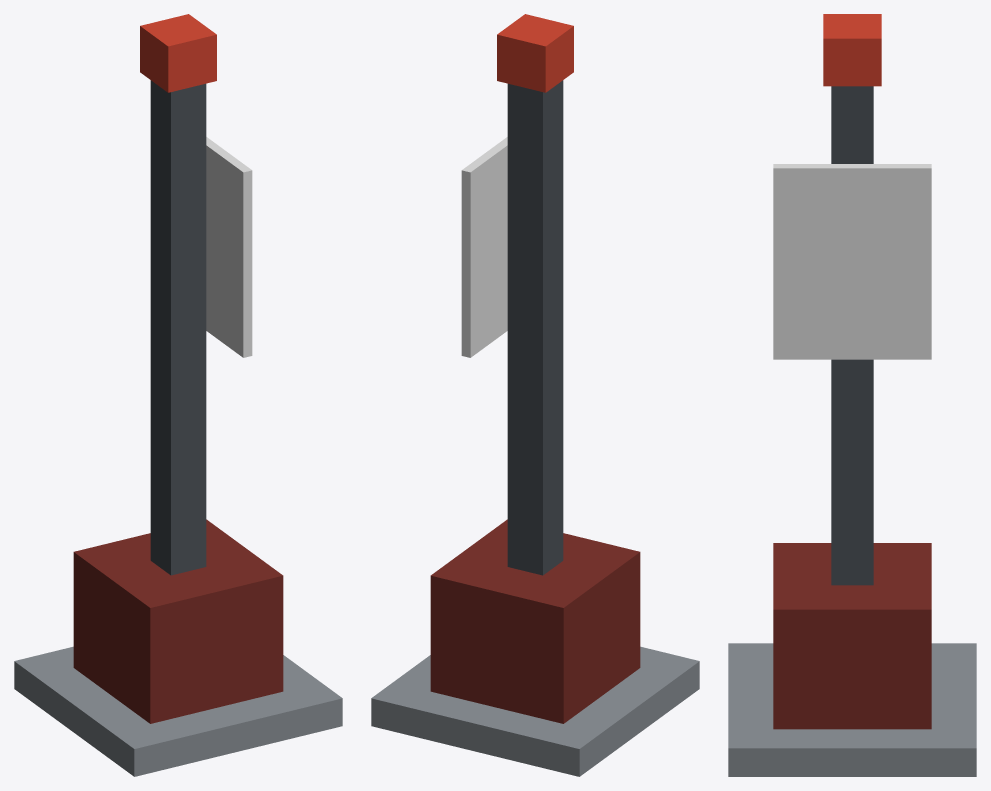
3 renders of one model, left to right at view 1: azimuth 30°, elevation 25°; view 2: azimuth 150°, elevation 25°; view 3: azimuth 270°, elevation 25°, orthographic. The views are drawn at different scales.
Parts seen in each view (by area): view 1: garde_building_outpost; view 2: garde_building_outpost; view 3: garde_building_outpost.
Part boxes in pixels (x1,y1,x2,y2): garde_building_outpost: (14,14,342,776); garde_building_outpost: (371,14,699,776); garde_building_outpost: (728,14,976,776).
Size of the model in its own units: 0.94 by 2.92 by 0.94.
